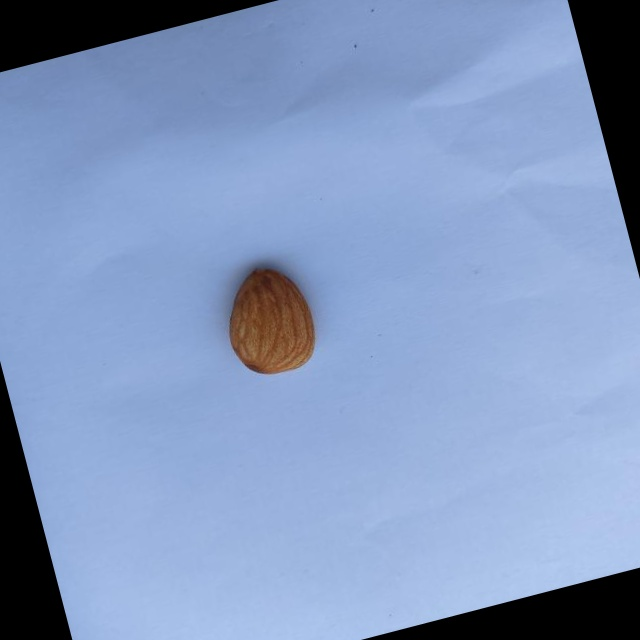grade1: (207, 248, 335, 391)
